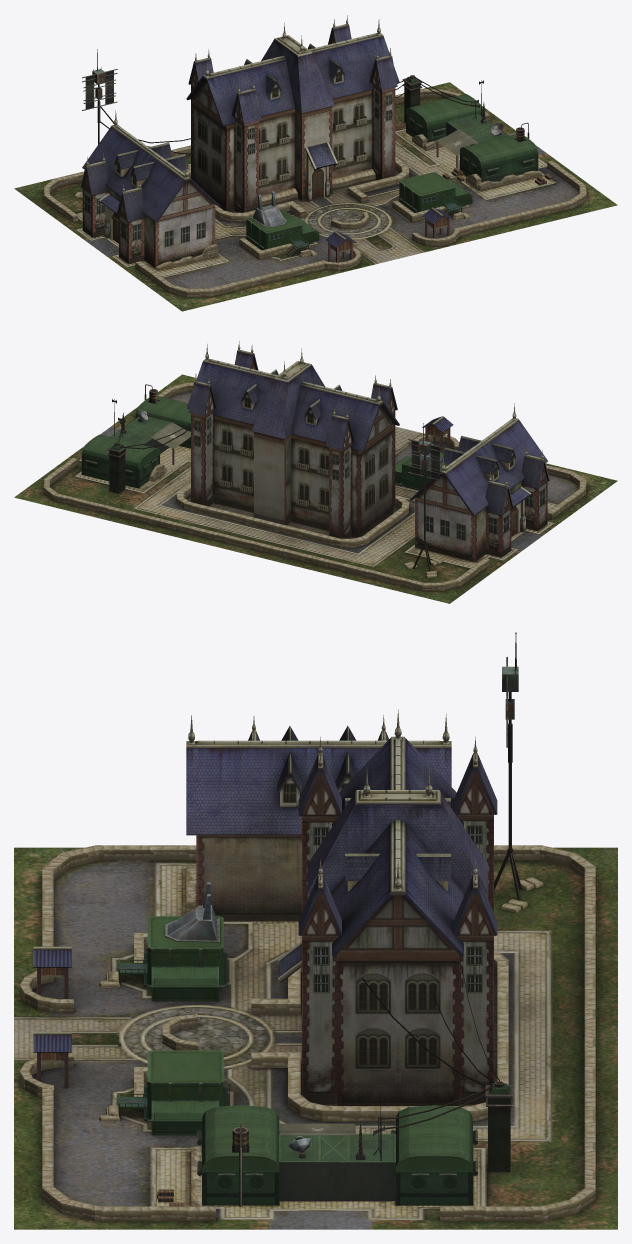
The model's file is Dhz_TechnologyCentre_03.FBX.
3 views of the same model, one above another, from view 1: azimuth 30°, elevation 25°; view 2: azimuth 150°, elevation 25°; view 3: azimuth 270°, elevation 25° (orthographic). The views are drawn at different scales.
Parts seen in each view (by area): view 1: Dhz_TechnologyCentre_03; view 2: Dhz_TechnologyCentre_03; view 3: Dhz_TechnologyCentre_03.
Boxes of the visible parts, box(x1,y1,x2,y2) form: Dhz_TechnologyCentre_03: box(14, 15, 617, 311); Dhz_TechnologyCentre_03: box(14, 341, 617, 603); Dhz_TechnologyCentre_03: box(14, 632, 617, 1229).
Bounding box in the file's own units: 185 × 62.2 × 124.
